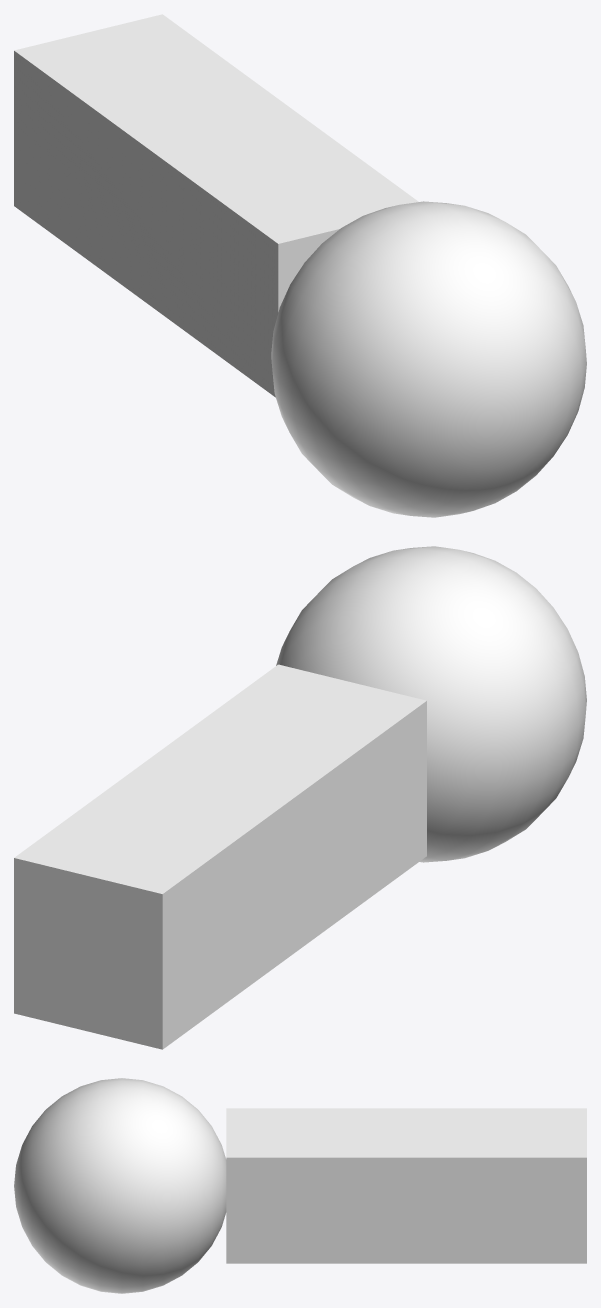
The model's file is player.gltf.
3 renders of one model, top to bottom at view 1: azimuth 30°, elevation 25°; view 2: azimuth 150°, elevation 25°; view 3: azimuth 270°, elevation 25°, orthographic. The views are drawn at different scales.
Parts seen in each view (by area): view 1: Dummy; view 2: Dummy; view 3: Dummy.
Boxes of the visible parts, <box> form: Dummy: <box>14,14,586,517</box>; Dummy: <box>14,546,586,1049</box>; Dummy: <box>14,1078,586,1293</box>.
Size of the model in its own units: 0.6227 by 0.6227 by 1.65.
1 material, 1 textured.
